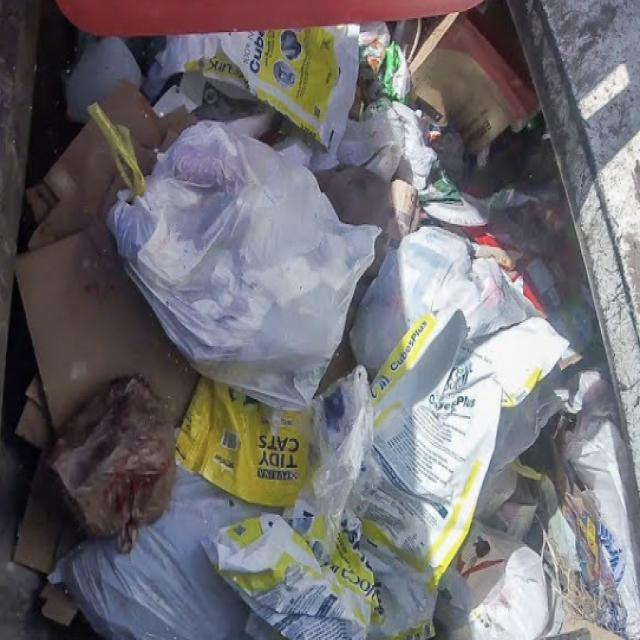bag: (102, 112, 370, 424)
paper: (20, 56, 176, 568), (324, 291, 529, 632), (188, 486, 411, 640)
